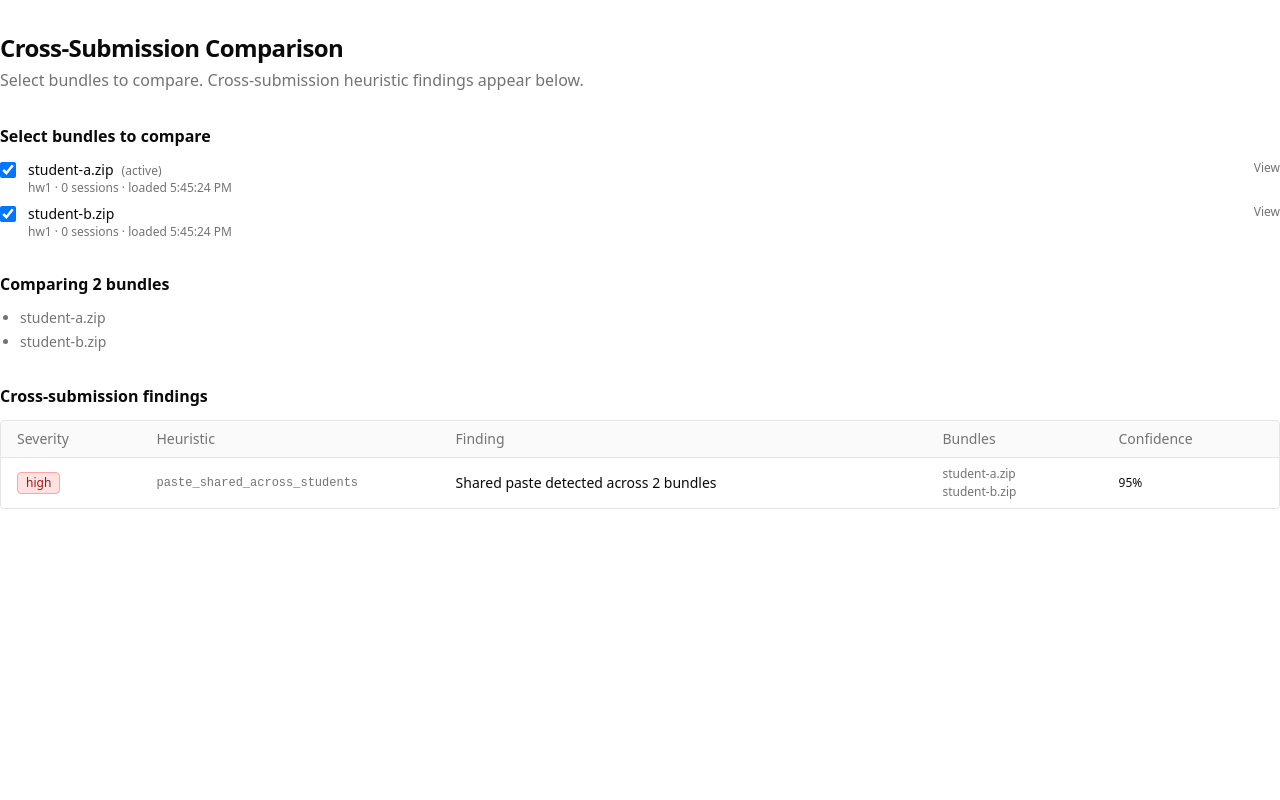
it: CompareView — Phase 18 cross-flag rendering › clicking a flag row opens the detail pane
The width and height of the screenshot is (1280, 800).
Click the button that starts with "high" at (640, 483), box 1,458 -> 1279,508
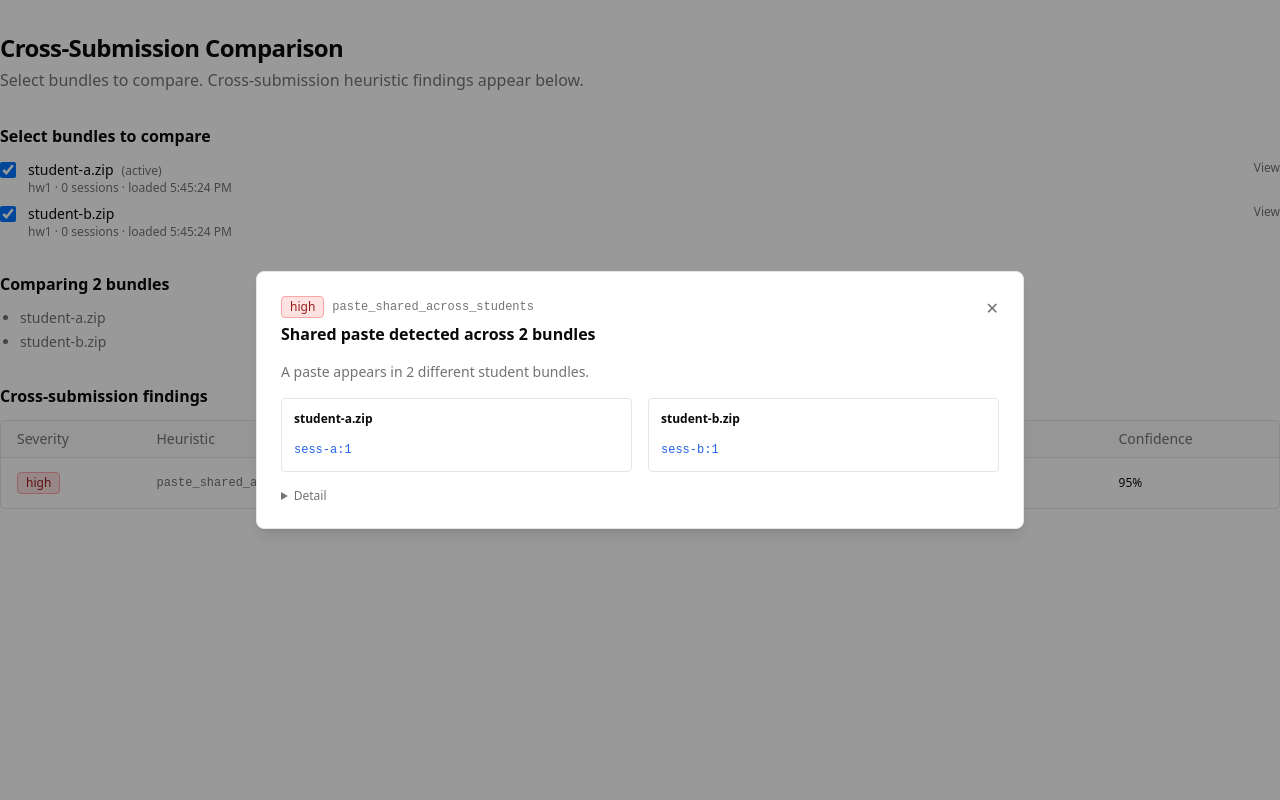
Result: the dialog with test id "cross-flag-detail-overlay" is shown
Result: the element with test id "cross-flag-bundle-panels" is shown at 281,398 -> 999,472
